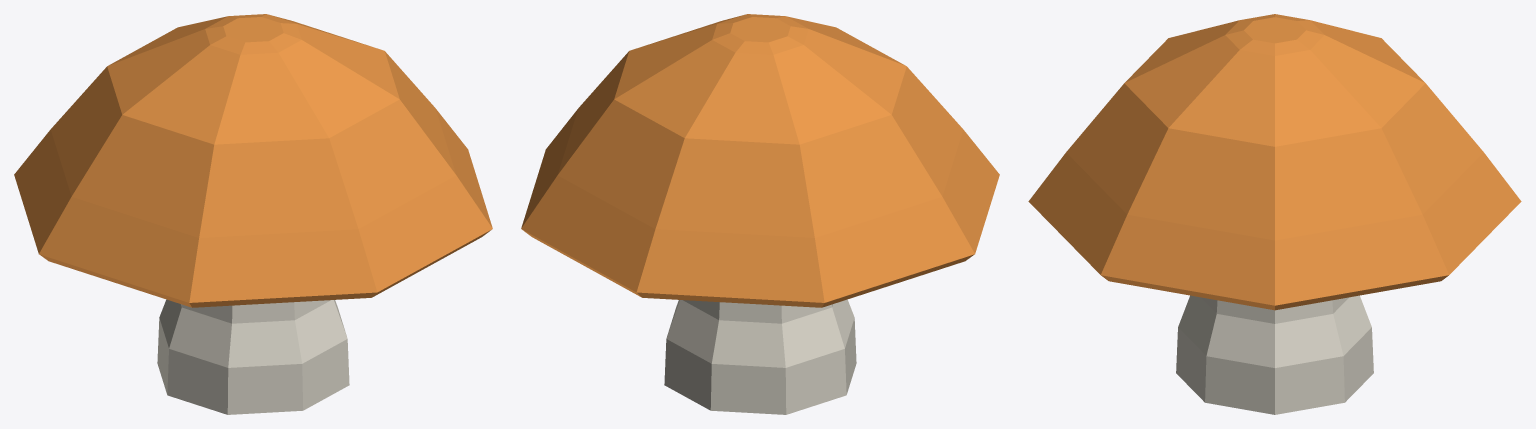
File: mushroom.fbx
3 renders of one model, left to right at view 1: azimuth 30°, elevation 25°; view 2: azimuth 150°, elevation 25°; view 3: azimuth 270°, elevation 25°, orthographic.
Visible parts, largest first — view 1: Portabello; view 2: Portabello; view 3: Portabello.
Boxes of the visible parts, left/top/right/bottom form: Portabello: left=14, top=14, right=492, bottom=414; Portabello: left=521, top=14, right=999, bottom=414; Portabello: left=1028, top=14, right=1521, bottom=414.
Size of the model in its own units: 559 by 429 by 559.
